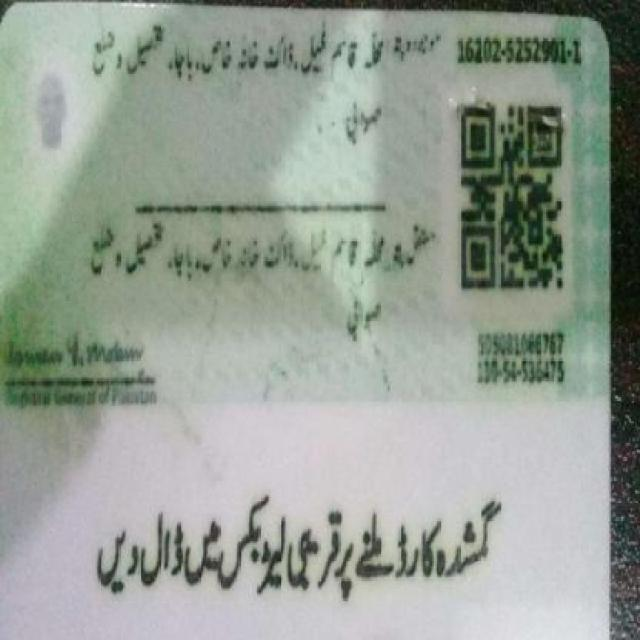Back: (3, 11, 614, 618)
